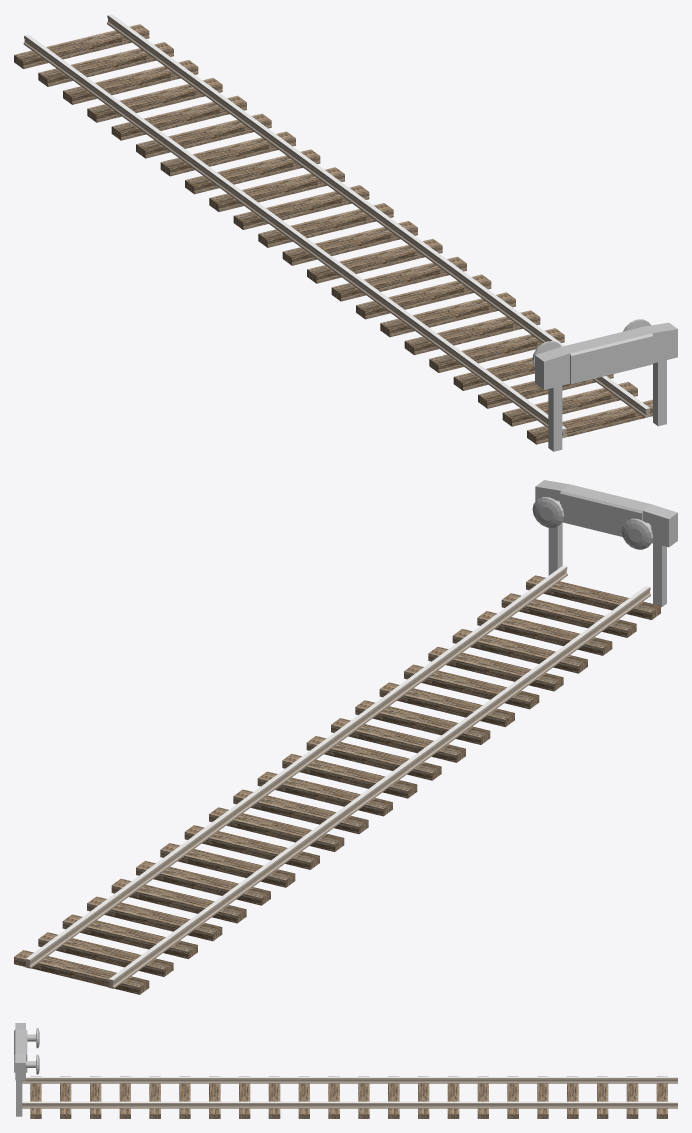
The model's file is Rails.fbx.
The picture shows the model from 3 angles, top to bottom: view 1: azimuth 30°, elevation 25°; view 2: azimuth 150°, elevation 25°; view 3: azimuth 270°, elevation 25°; orthographic projection. The views are drawn at different scales.
Visible parts, largest first — view 1: Sleepers.001, Rail.001, Stop.001; view 2: Sleepers.001, Rail.001, Stop.001; view 3: Rail.001, Sleepers.001, Stop.001.
Part boxes in pixels (x1=…): Sleepers.001: x1=14, y1=24, x2=652, y2=444; Rail.001: x1=23, y1=14, x2=650, y2=437; Stop.001: x1=532, y1=319, x2=677, y2=451; Sleepers.001: x1=14, y1=575, x2=660, y2=994; Rail.001: x1=25, y1=565, x2=650, y2=988; Stop.001: x1=532, y1=480, x2=677, y2=607; Rail.001: x1=22, y1=1077, x2=677, y2=1108; Sleepers.001: x1=30, y1=1076, x2=667, y2=1118; Stop.001: x1=14, y1=1023, x2=39, y2=1116.
Size of the model in its own units: 174 by 118 by 1224.
